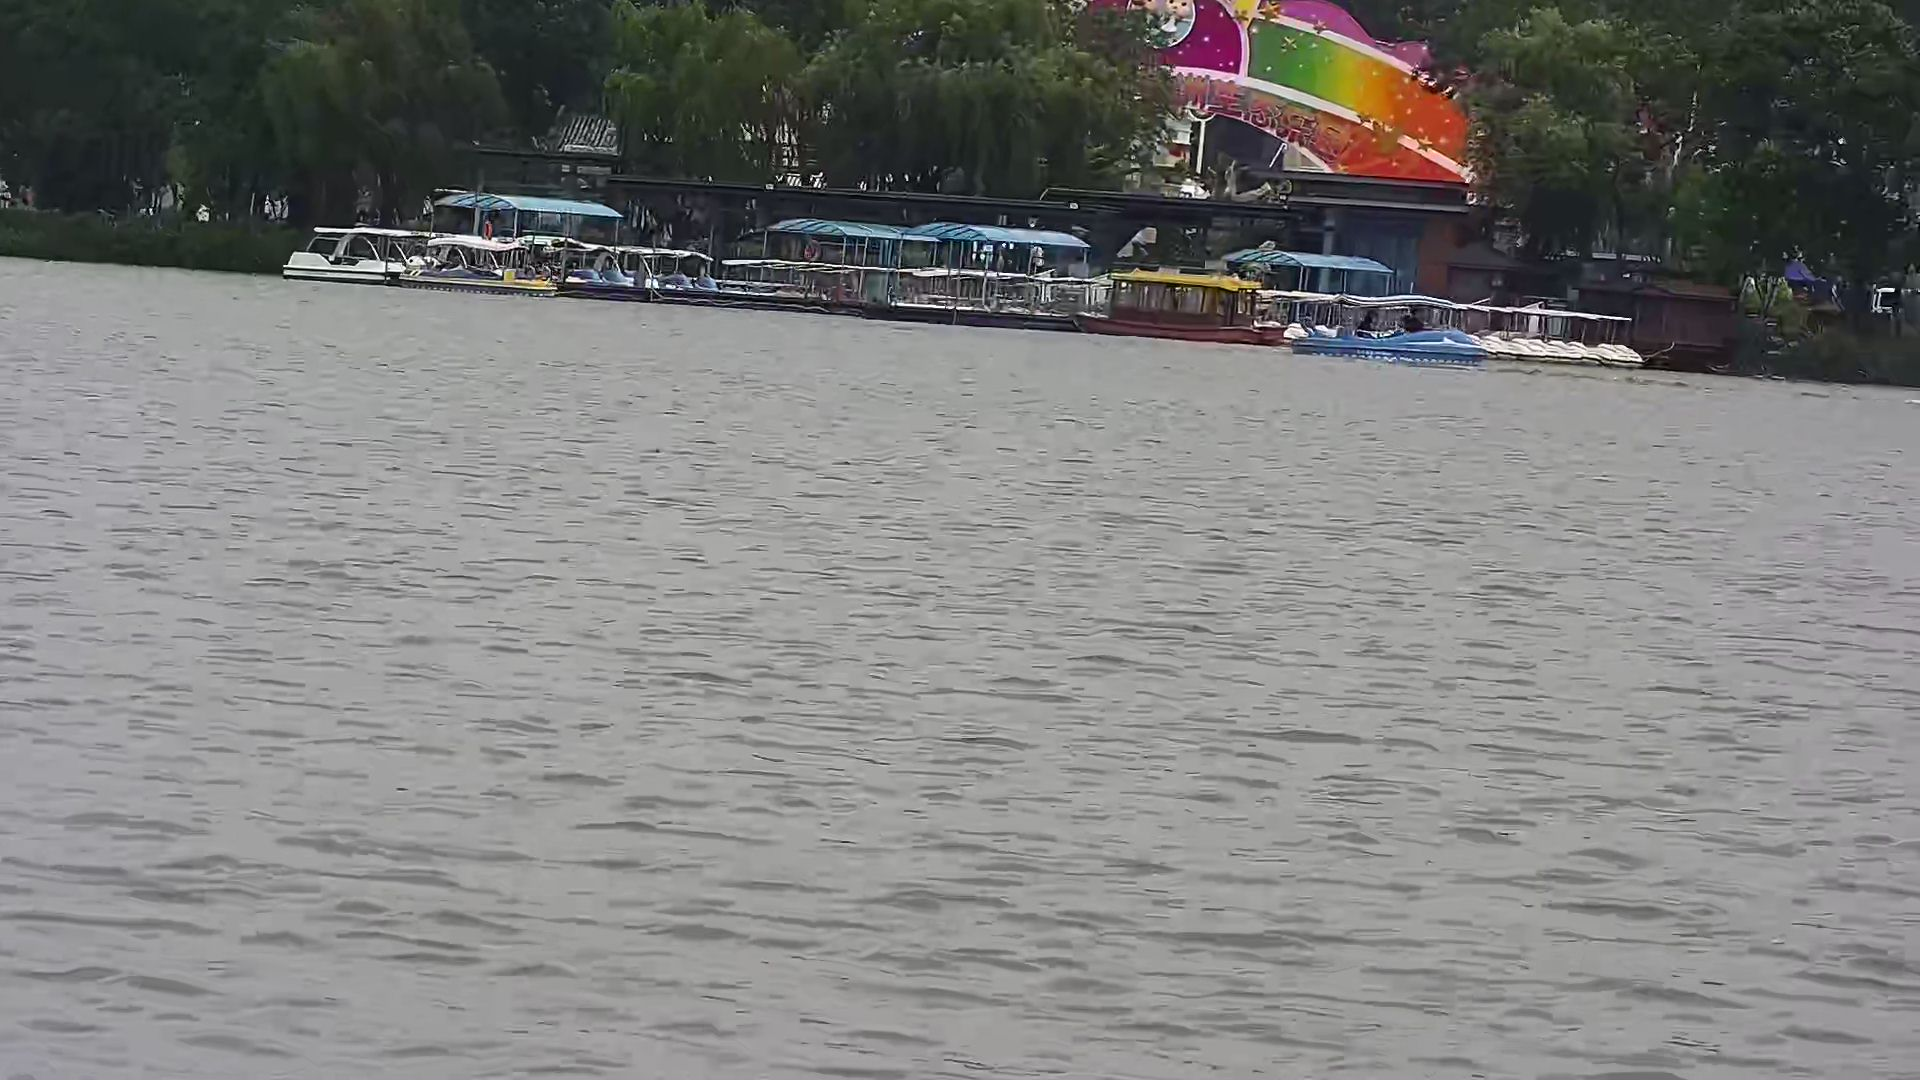harbor: (276, 166, 1647, 373)
